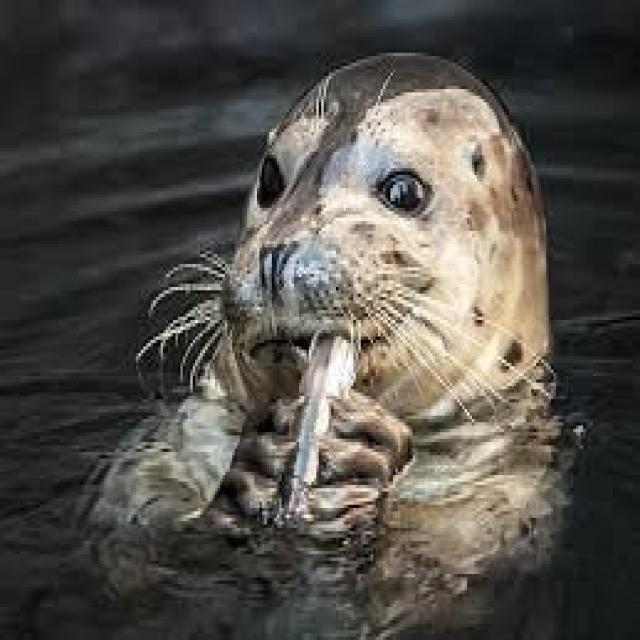seal: (94, 53, 583, 637)
